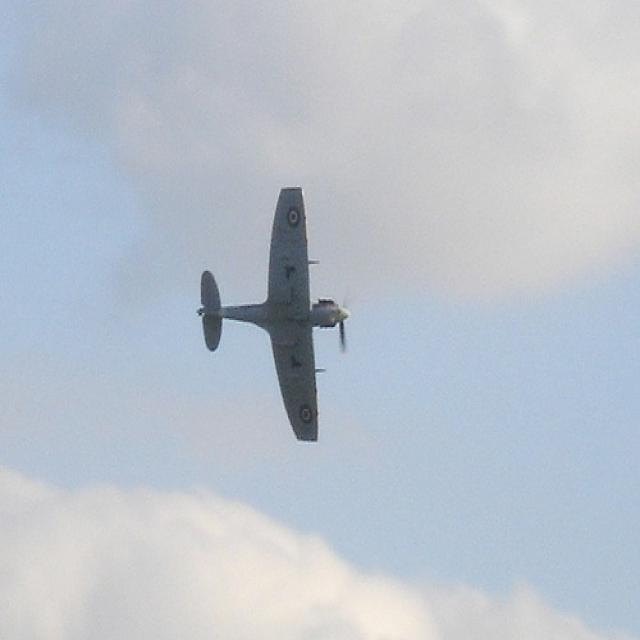aeroplane: (196, 185, 351, 445)
